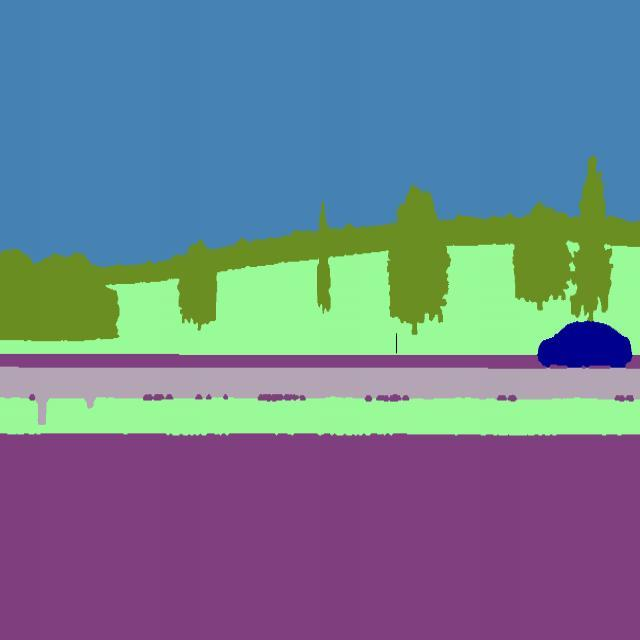safe: (535, 315, 633, 372)
